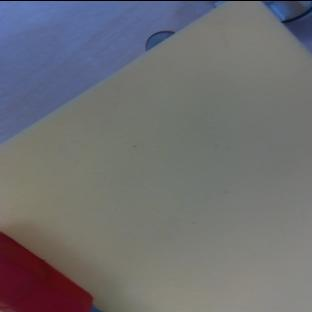part_2_good: (0, 232, 105, 312)
